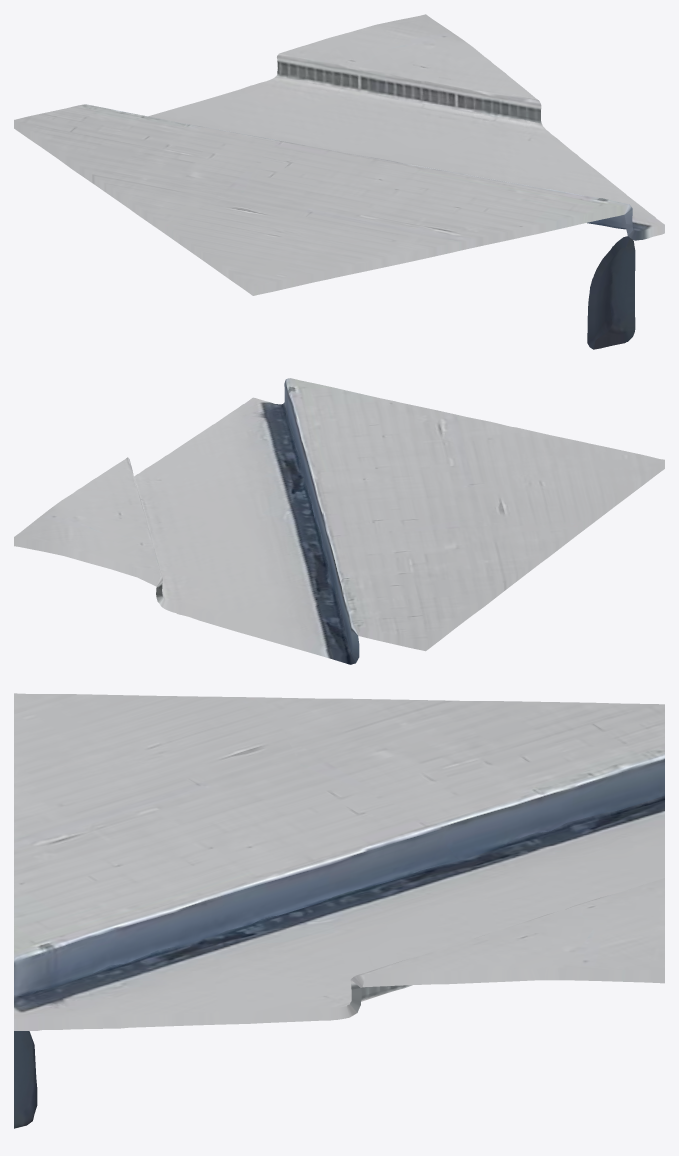
The model's file is z20-167771-405192-h0-yup-uvflip-v3-world.glb.
3 views of the same model, one above another, from view 1: azimuth 30°, elevation 25°; view 2: azimuth 150°, elevation 25°; view 3: azimuth 270°, elevation 25° (orthographic). The views are drawn at different scales.
Bounding box in the file's own units: 30.16 × 10.28 × 30.32.
Materials: 1 (1 with a texture image).
